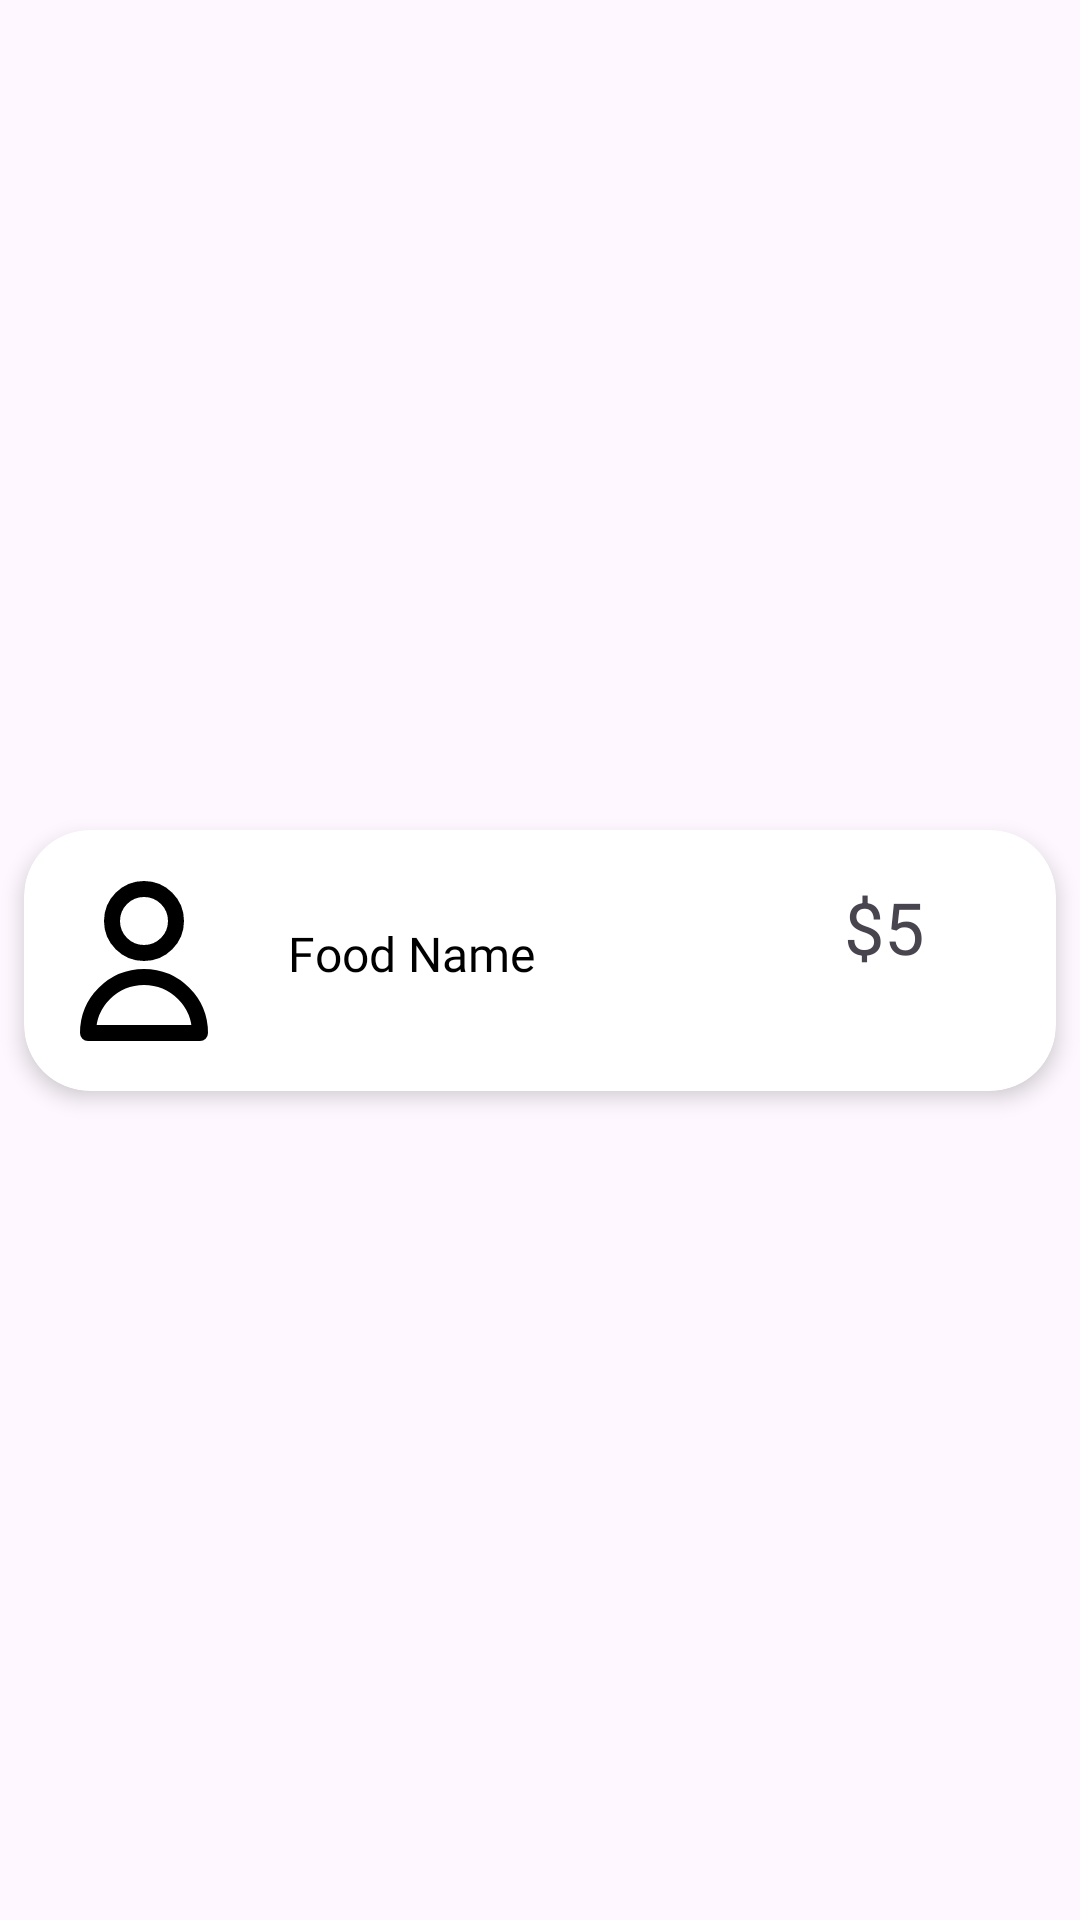

Icon bounding boxes for this 1080px x 1920px phone screenshot, format (x1, y1, x2, y2):
user: (80, 881, 208, 1041)
